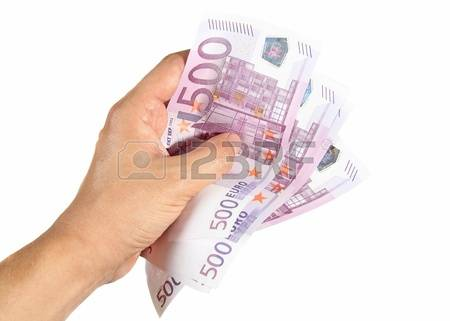billete: (137, 9, 372, 321)
